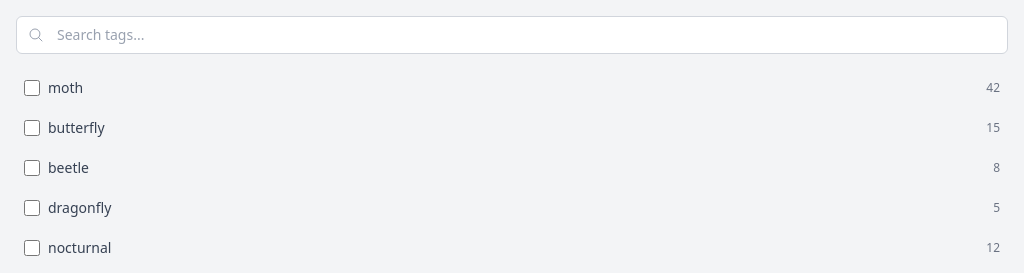
Test: TagFilter › Search Functionality › shows clear search button when search has value
Expected: the text "moth" is shown, [48,78,83,97]
Type "moth" into the field with placeholder "Search tags..." at (512, 35), box [16,16,1008,54]
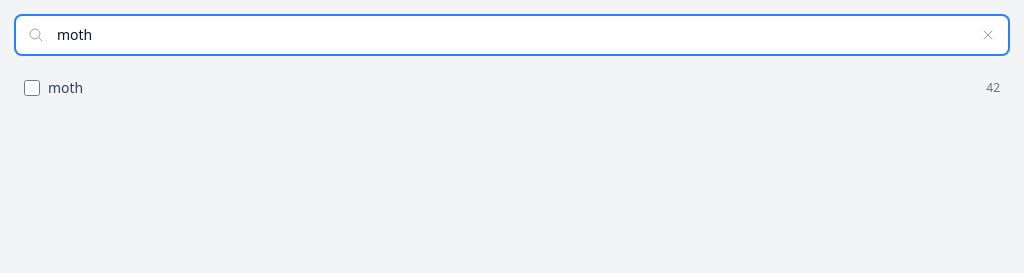
Now the button named "clear search" is shown, box [980,16,1008,54]
